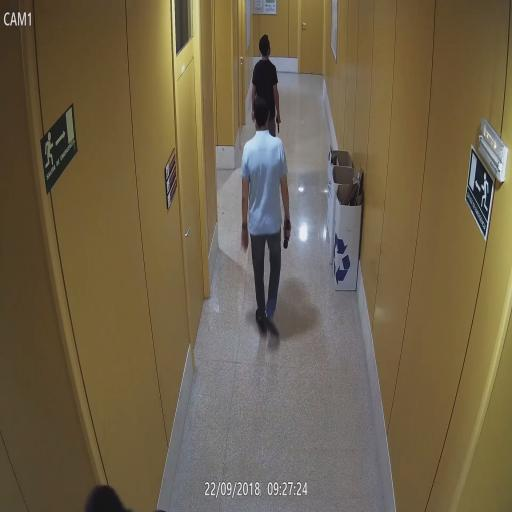Handgun: (275, 111, 282, 133)
